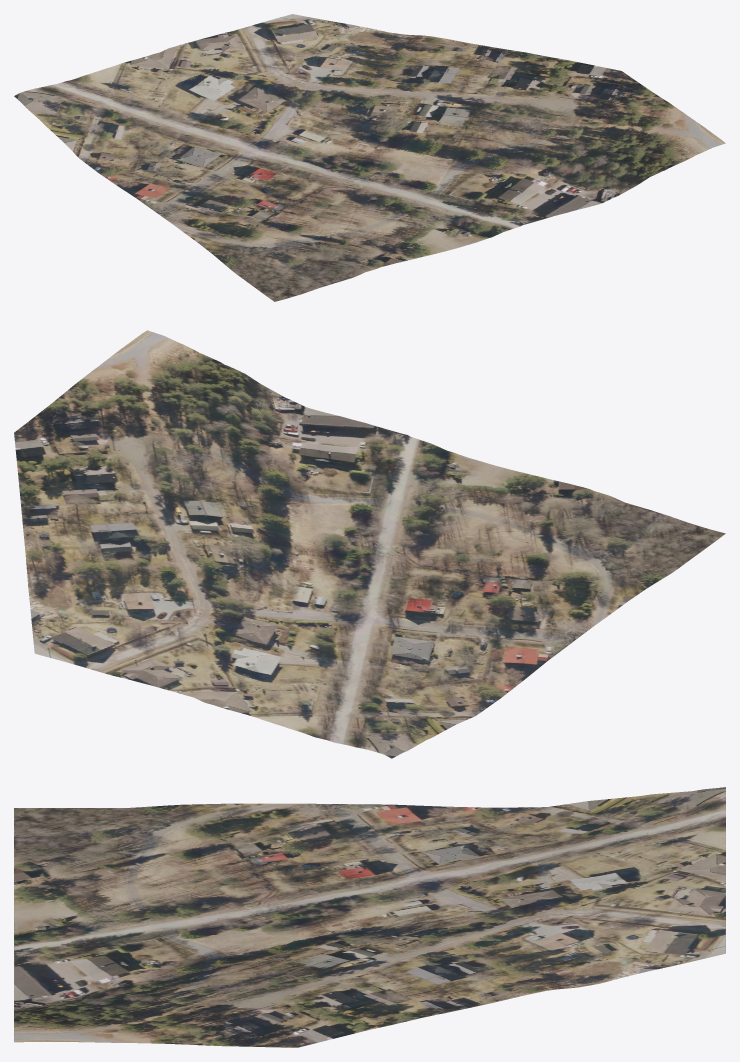
Rendered from CM_Terrain_24492506_6818565.fbx.
3 views of the same model, one above another, from view 1: azimuth 30°, elevation 25°; view 2: azimuth 150°, elevation 25°; view 3: azimuth 270°, elevation 25° (orthographic). The views are drawn at different scales.
Parts seen in each view (by area): view 1: CM_Terrain_24492506_6818565_LOD0; view 2: CM_Terrain_24492506_6818565_LOD0; view 3: CM_Terrain_24492506_6818565_LOD0.
Part boxes in pixels (x1,y1,x2,y2): CM_Terrain_24492506_6818565_LOD0: [14, 14, 725, 301]; CM_Terrain_24492506_6818565_LOD0: [14, 330, 725, 758]; CM_Terrain_24492506_6818565_LOD0: [14, 787, 725, 1047].
Size of what is drawn, in the model's own units: 205 by 21.23 by 205.
